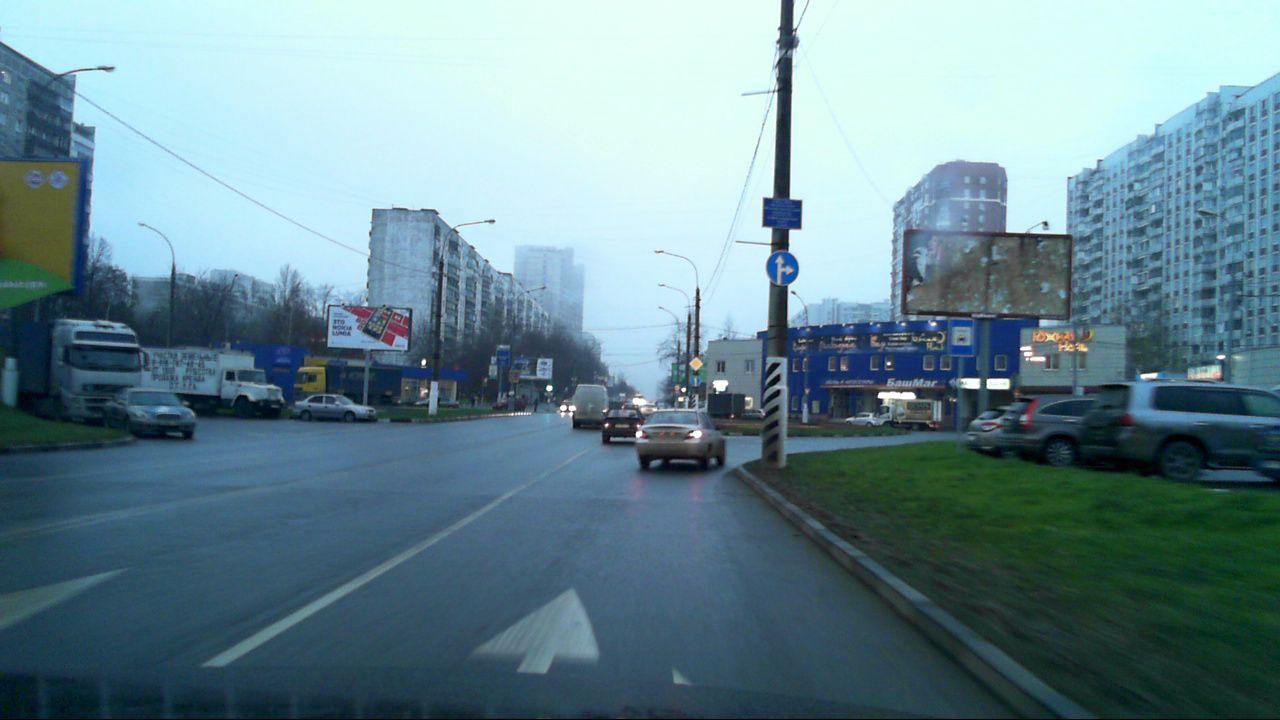2_1: (687, 355, 704, 372)
4_1_1: (689, 374, 702, 388)
4_1_4: (764, 247, 802, 286)
5_18: (949, 318, 975, 357)
